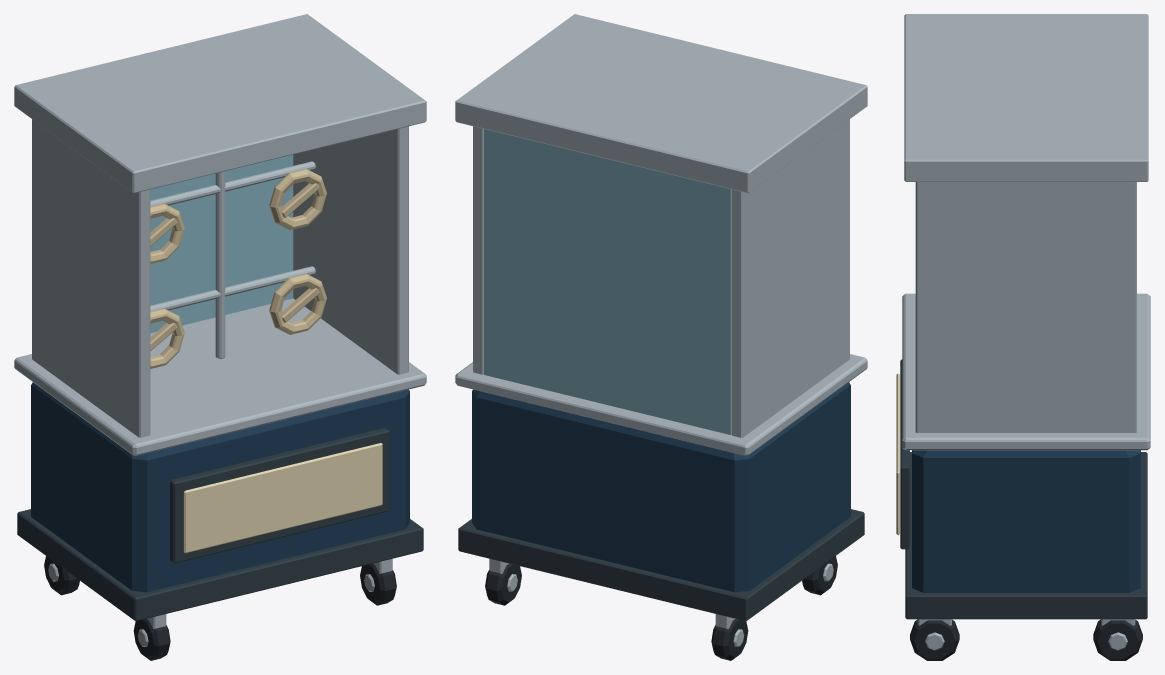
The model's file is b10_pretzel_warmer_cart.glb.
3 renders of one model, left to right at view 1: azimuth 30°, elevation 25°; view 2: azimuth 150°, elevation 25°; view 3: azimuth 270°, elevation 25°, orthographic. The views are drawn at different scales.
Parts seen in each view (by area): view 1: b10_pretzel_warmer_cart; view 2: b10_pretzel_warmer_cart; view 3: b10_pretzel_warmer_cart.
Boxes of the visible parts, x1,y1,x2,y2 form: b10_pretzel_warmer_cart: (14,14,426,660); b10_pretzel_warmer_cart: (455,14,867,660); b10_pretzel_warmer_cart: (896,14,1150,660).
Bounding box in the file's own units: 0.91 × 1.49 × 0.6655.
